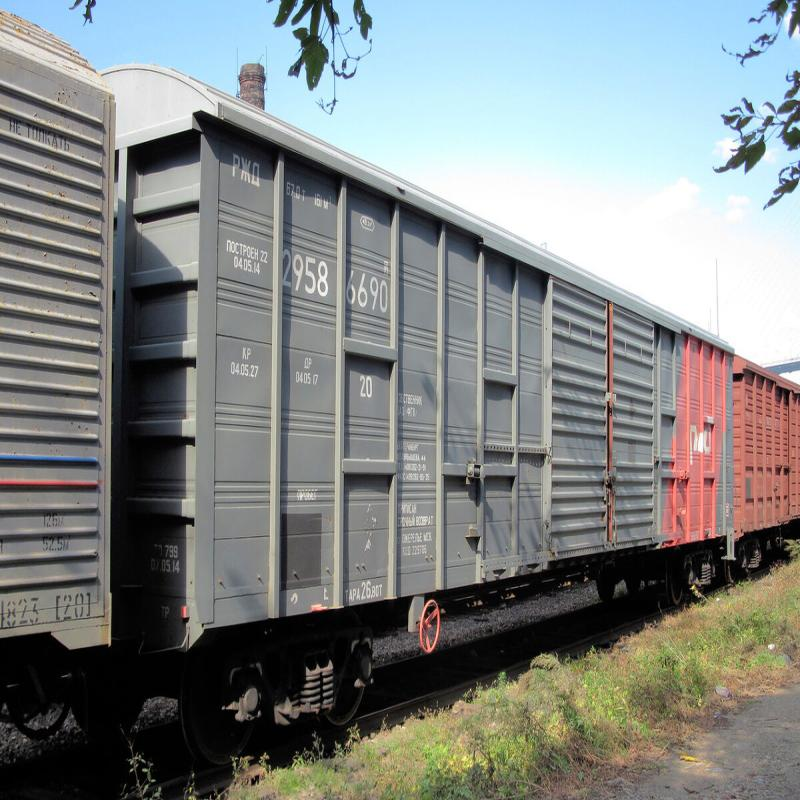train: (80, 133, 749, 788)
